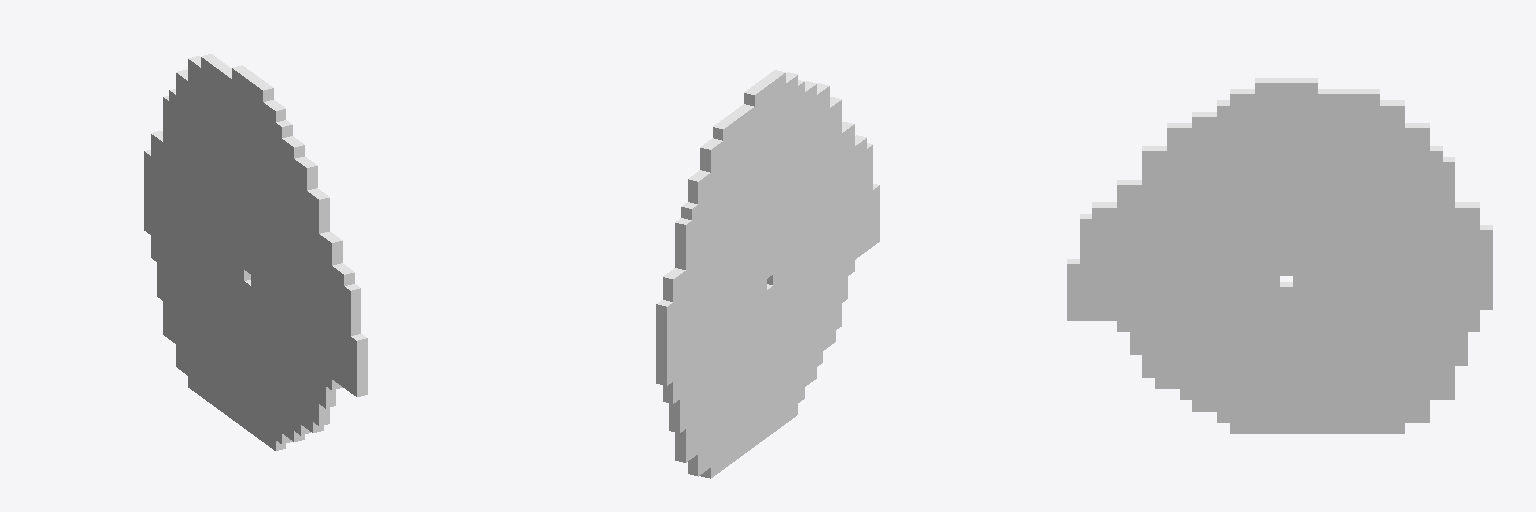
File: ThePainting-0-dacow.obj
3 views of the same model, side by side, from view 1: azimuth 30°, elevation 25°; view 2: azimuth 150°, elevation 25°; view 3: azimuth 270°, elevation 25° (orthographic).
Visible parts, largest first — view 1: dacow; view 2: dacow; view 3: dacow.
Boxes of the visible parts, x1,y1,x2,y2 form: dacow: [144, 54, 367, 450]; dacow: [656, 70, 879, 478]; dacow: [1067, 78, 1492, 433].
Bounding box in the file's own units: 0.1 × 3.1 × 3.4.